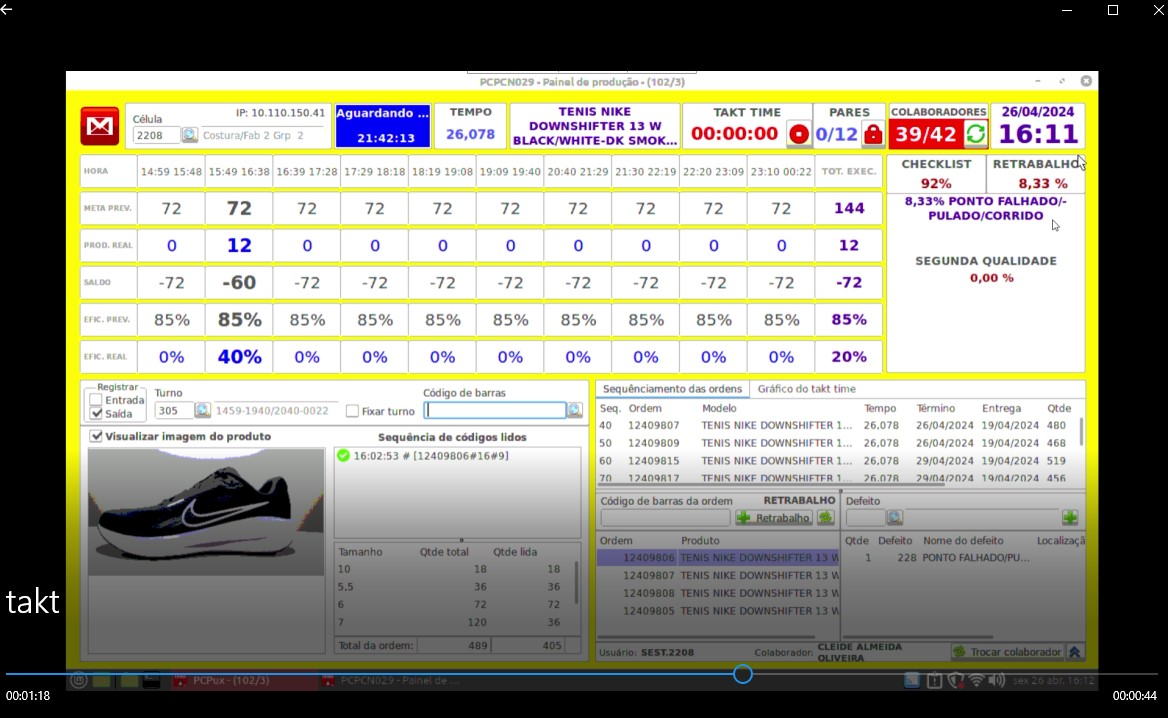takt_time: (687, 104, 785, 147)
